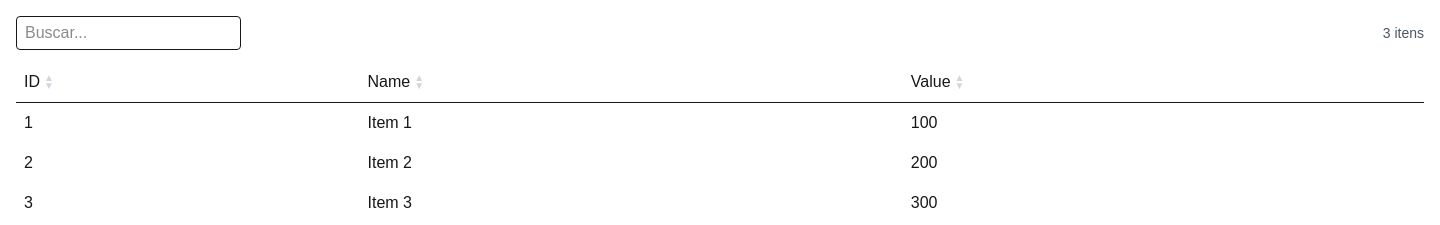
Scenario: DataGrid Component › Filtering › deve mostrar mensagem de vazio quando nenhum resultado de filtro
Step 1. Type "NonExistent" into the field with placeholder "Buscar..." → (128, 33), box [16, 16, 241, 50]
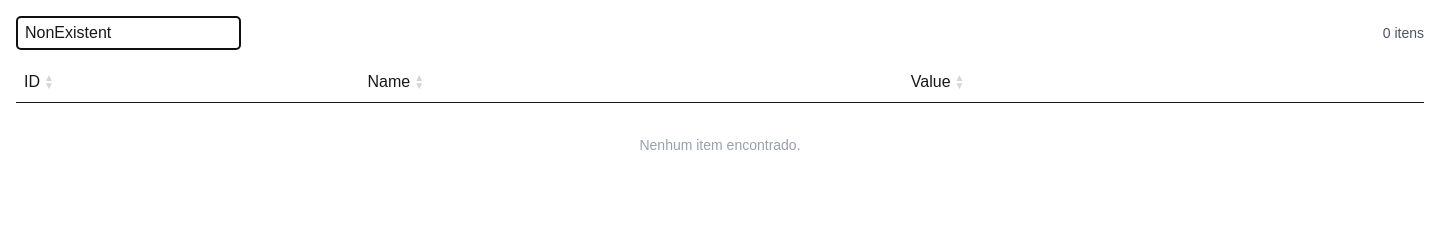
Expected: the text "Nenhum item encontrado." is shown, [640, 137, 801, 153]
